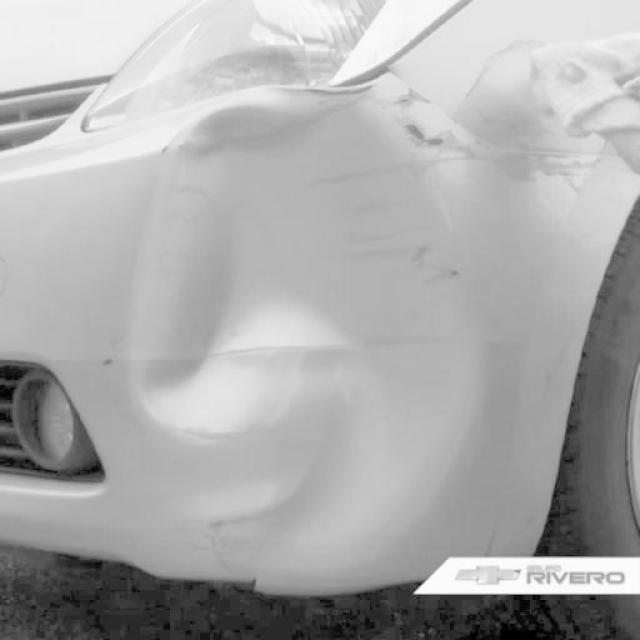car damage: (124, 91, 479, 566), (177, 95, 359, 151), (462, 38, 544, 109), (485, 148, 597, 181), (401, 118, 471, 156), (393, 84, 427, 106)
